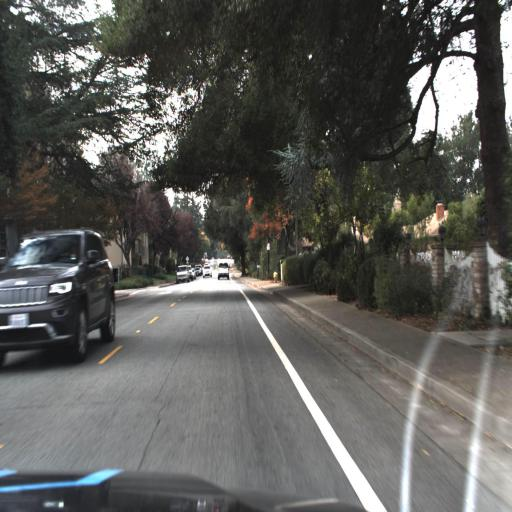car: (0, 229, 119, 373), (215, 254, 232, 282)
